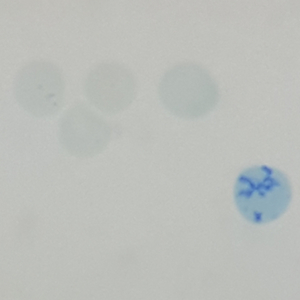aggregate reticulocyte: (231, 162, 295, 226)
erythrocyte: (155, 61, 221, 122), (56, 99, 115, 160), (9, 58, 67, 120), (82, 61, 139, 115)
